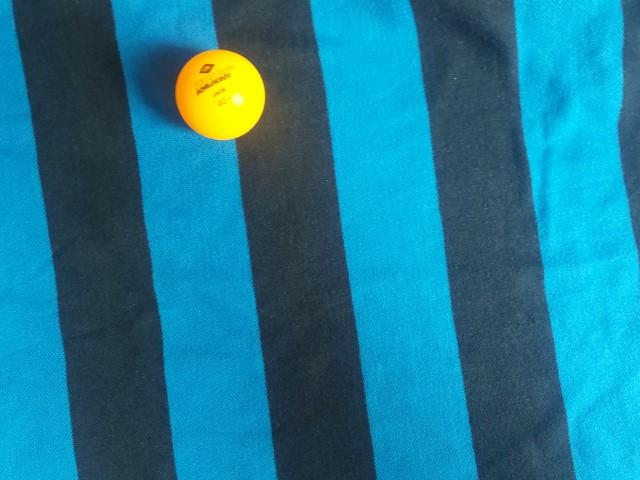oball: (166, 46, 268, 144)
